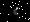person: (13, 5, 23, 19)
